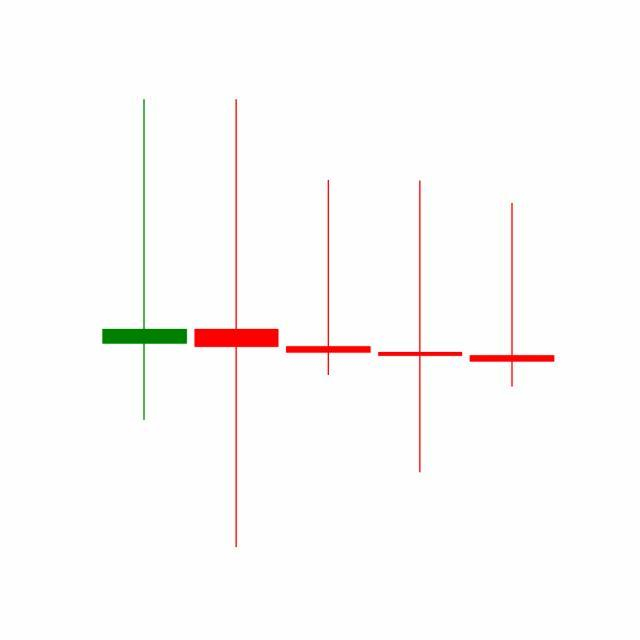Gravestone Doji: (466, 201, 559, 390)
